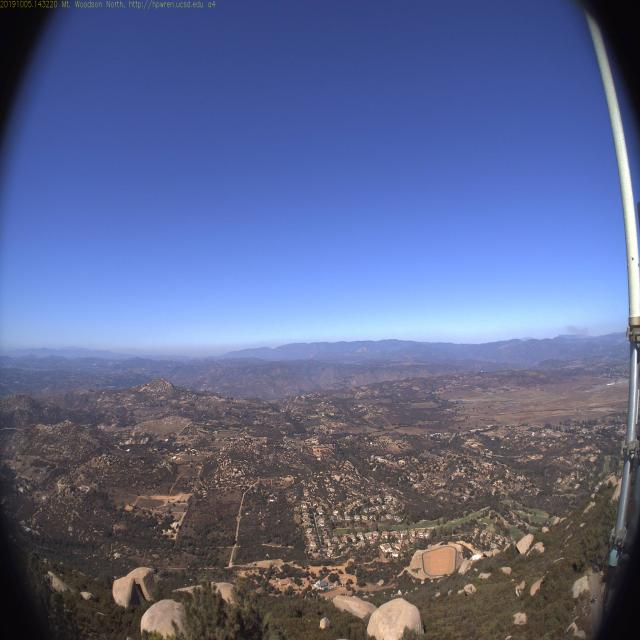smoke: (562, 317, 592, 340)
